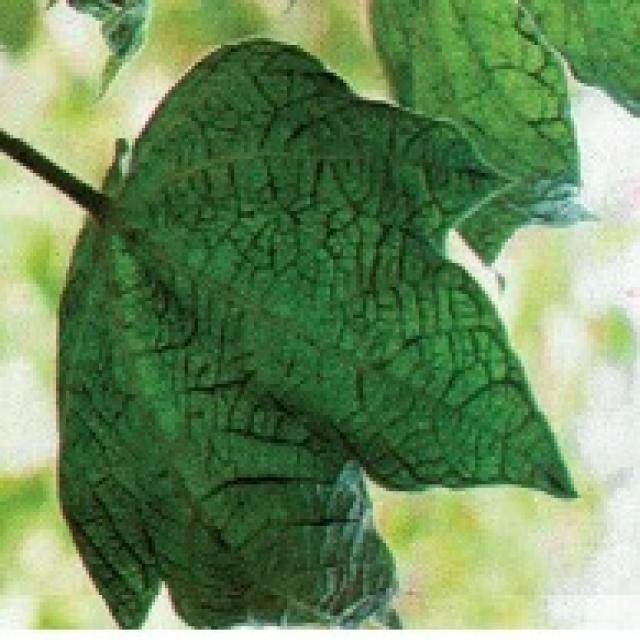Leaf Curl Virus: (90, 116, 451, 635)
